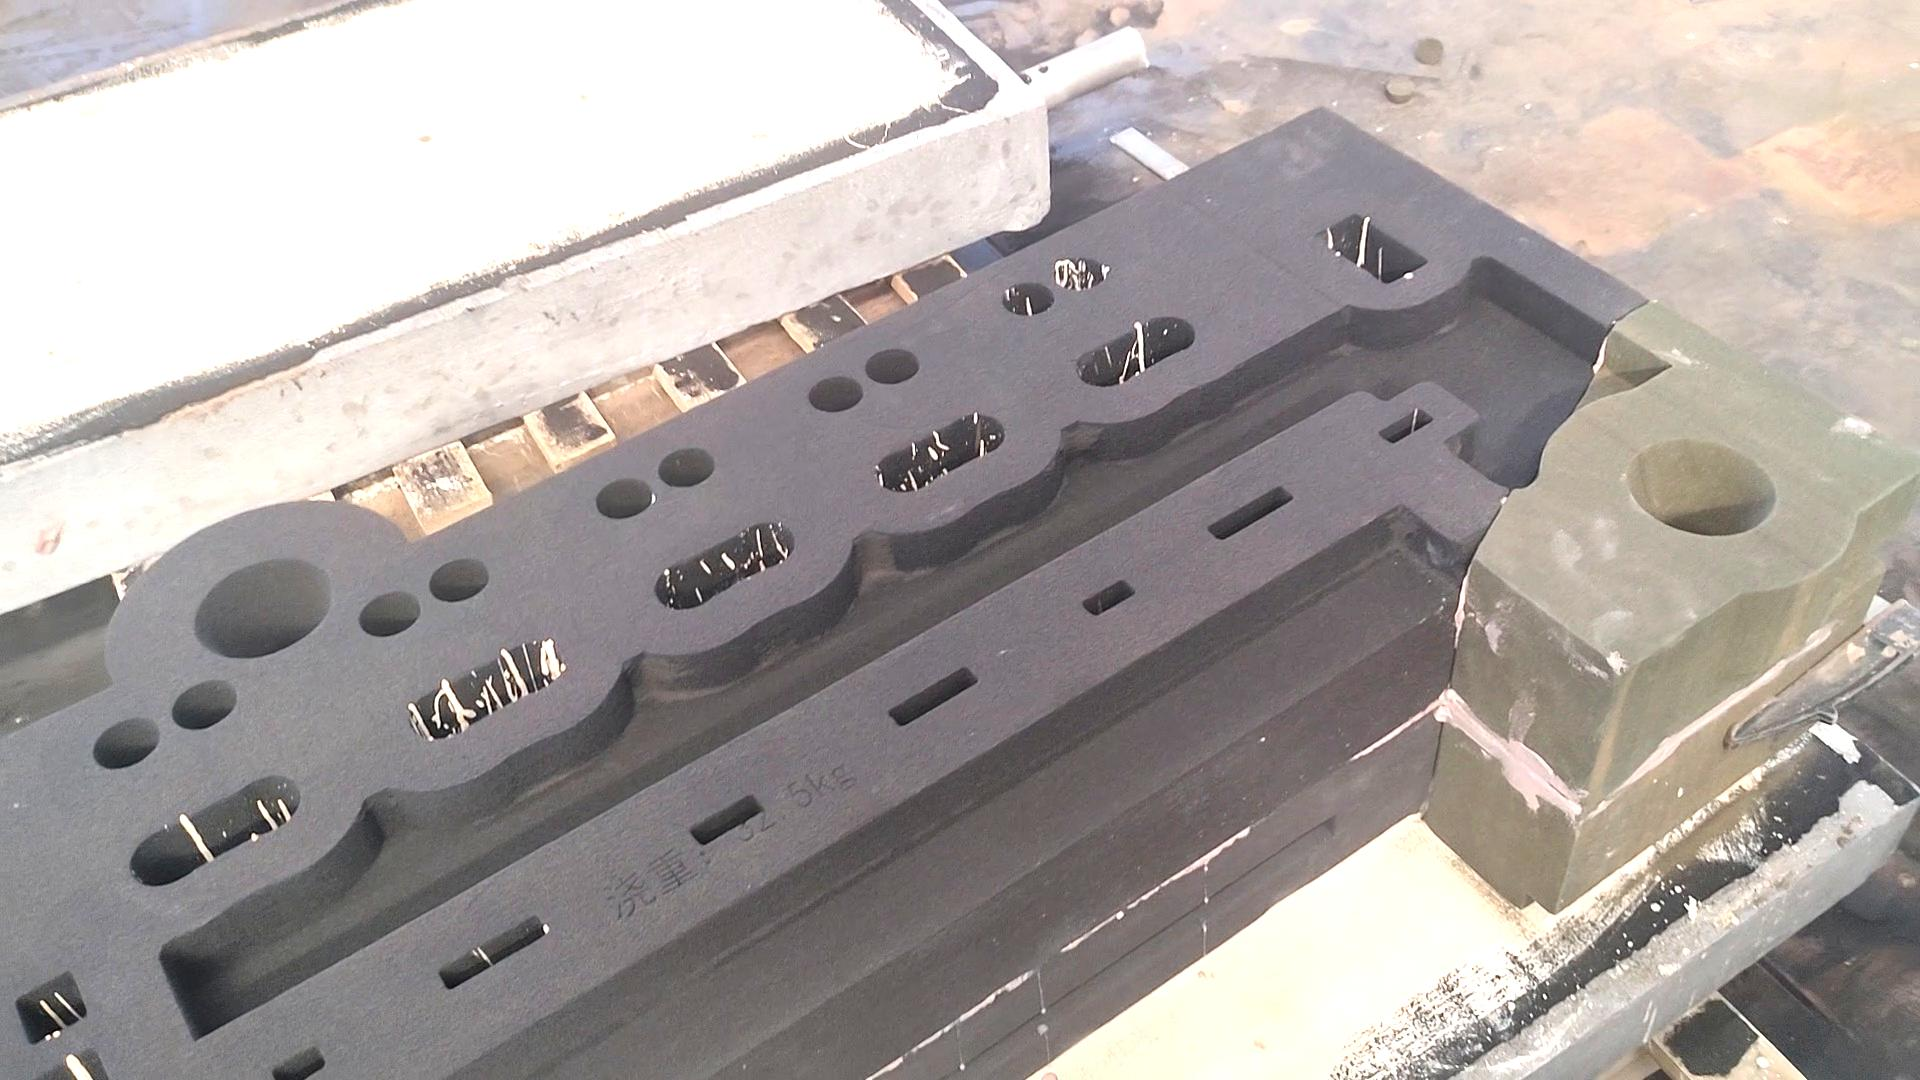pouring hole: (1629, 436, 1778, 535), (193, 556, 332, 659)
